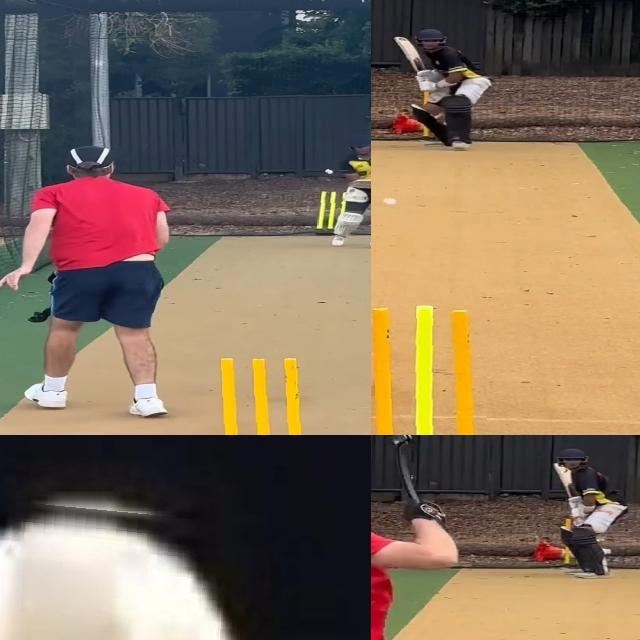Cricket ball: (0, 491, 267, 640), (381, 196, 397, 206), (323, 167, 337, 176)
Stumps: (371, 305, 487, 435), (211, 356, 316, 435), (317, 189, 343, 235)
